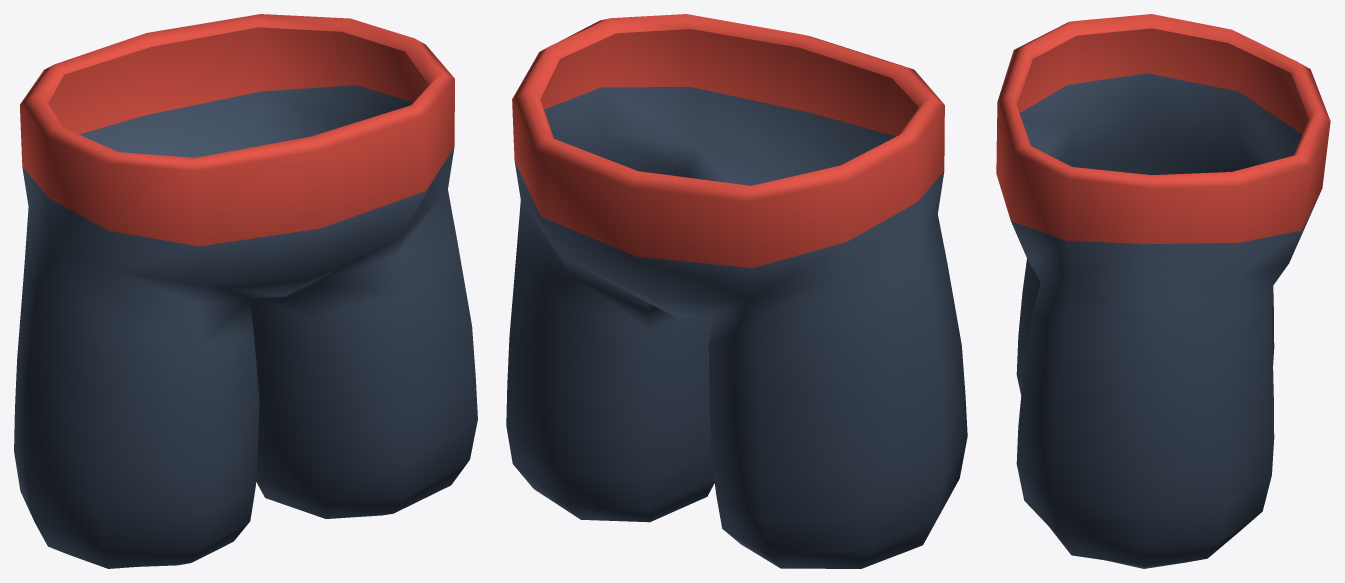
The model's file is Bottom_25.fbx.
The picture shows the model from 3 angles, left to right: view 1: azimuth 30°, elevation 25°; view 2: azimuth 150°, elevation 25°; view 3: azimuth 270°, elevation 25°; orthographic projection. The views are drawn at different scales.
Visible parts, largest first — view 1: Bottom_25; view 2: Bottom_25; view 3: Bottom_25.
Boxes of the visible parts, x1,y1,x2,y2 form: Bottom_25: (14, 14, 477, 568); Bottom_25: (506, 14, 967, 568); Bottom_25: (996, 14, 1330, 568).
Size of the model in its own units: 43.07 by 41.52 by 31.34.
